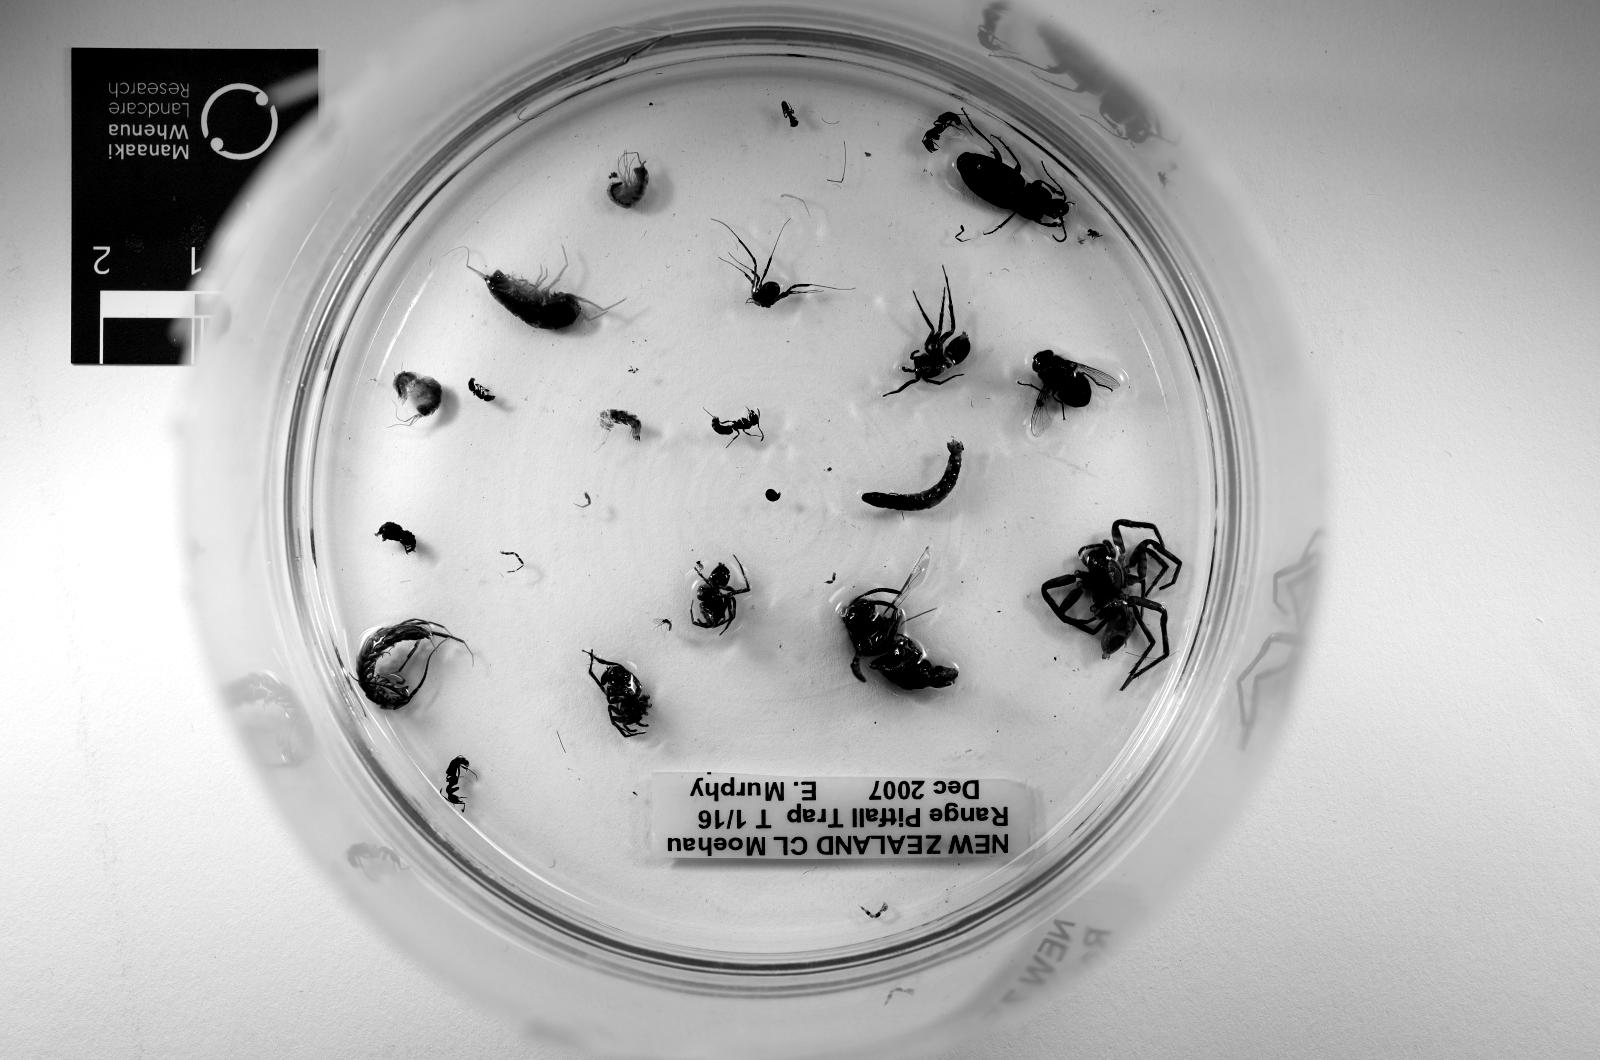amphipoda: (468, 258, 609, 329), (394, 373, 441, 426), (607, 153, 650, 208)
araneae: (1041, 518, 1181, 690), (887, 279, 972, 394), (588, 649, 650, 736), (691, 562, 750, 631)
carabidae: (957, 118, 1069, 239)
coleoptera: (378, 522, 415, 552)
coleoptera_larva: (862, 441, 963, 512)
diptera: (1028, 351, 1113, 435)
formicidae: (922, 111, 963, 153), (713, 409, 765, 441), (443, 757, 468, 810), (468, 379, 497, 403), (782, 103, 797, 128)
hymenoptera: (841, 550, 959, 690)
opiliones: (728, 230, 831, 308)
